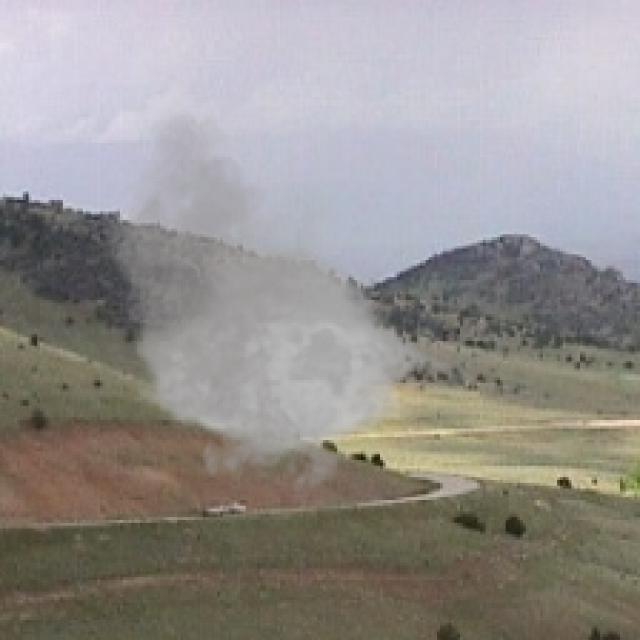Smoke: (97, 103, 466, 503)
